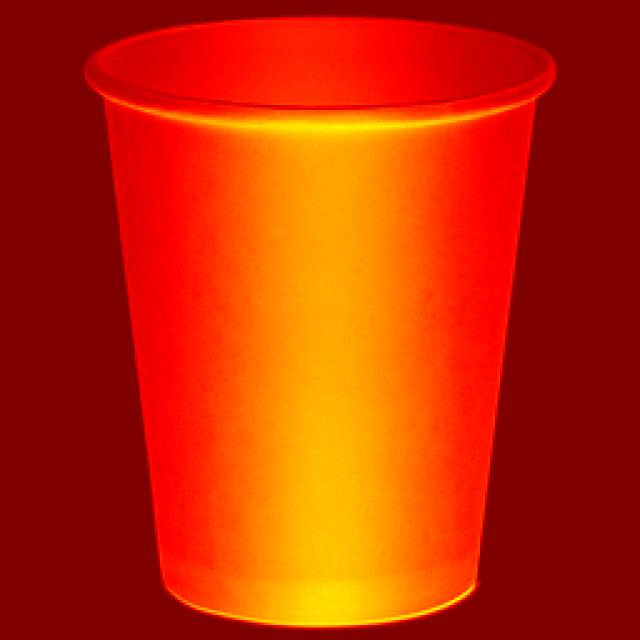Paper Cups: (85, 11, 546, 640)
